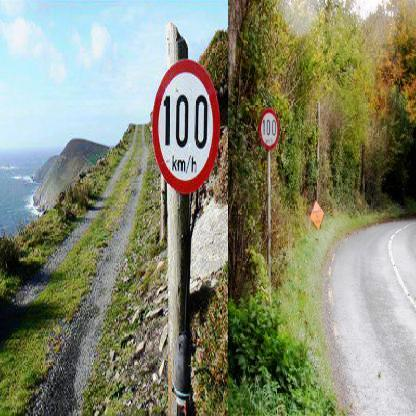Speed Limit -100-: (152, 58, 221, 194), (253, 108, 283, 150)
